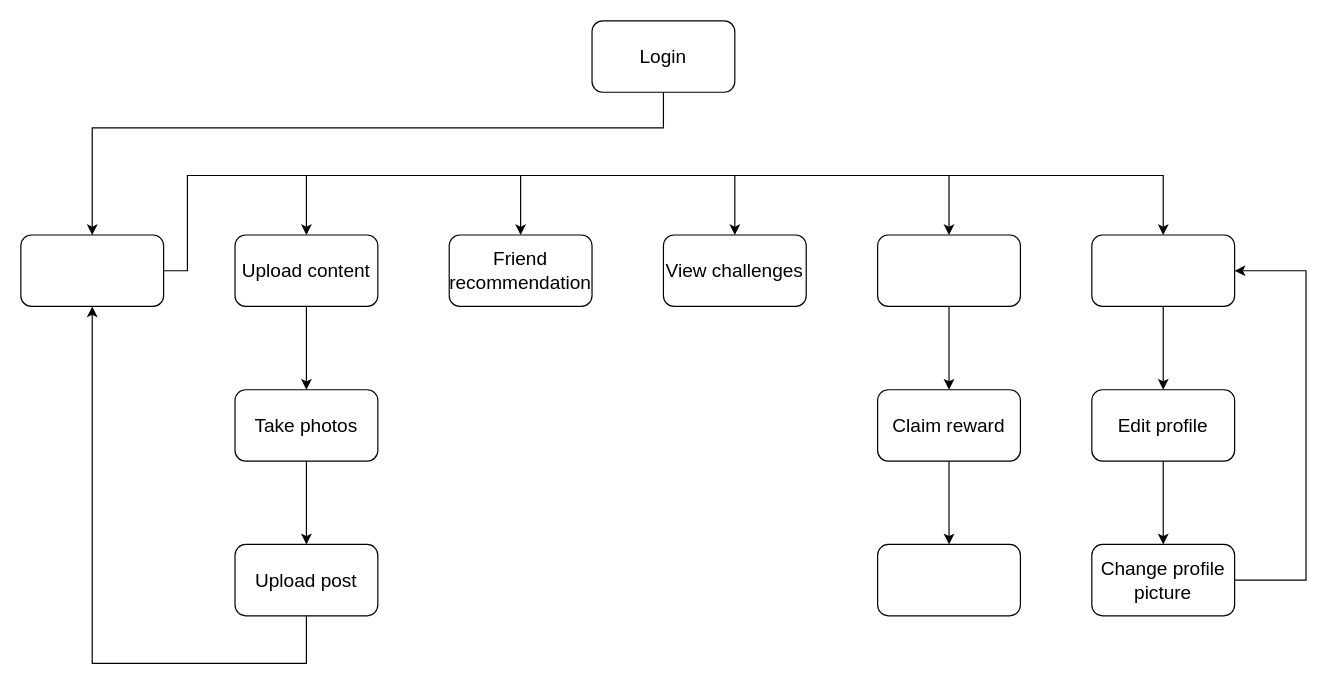
Some shapes in this 1336 by 694 pixel diagram are drawn without their labels. Each missing label, with the box of its shape:
Home: (20, 234, 164, 306)
See claimed rewards: (876, 543, 1020, 616)
View profile: (1091, 234, 1235, 306)
View rewards: (876, 234, 1020, 306)
